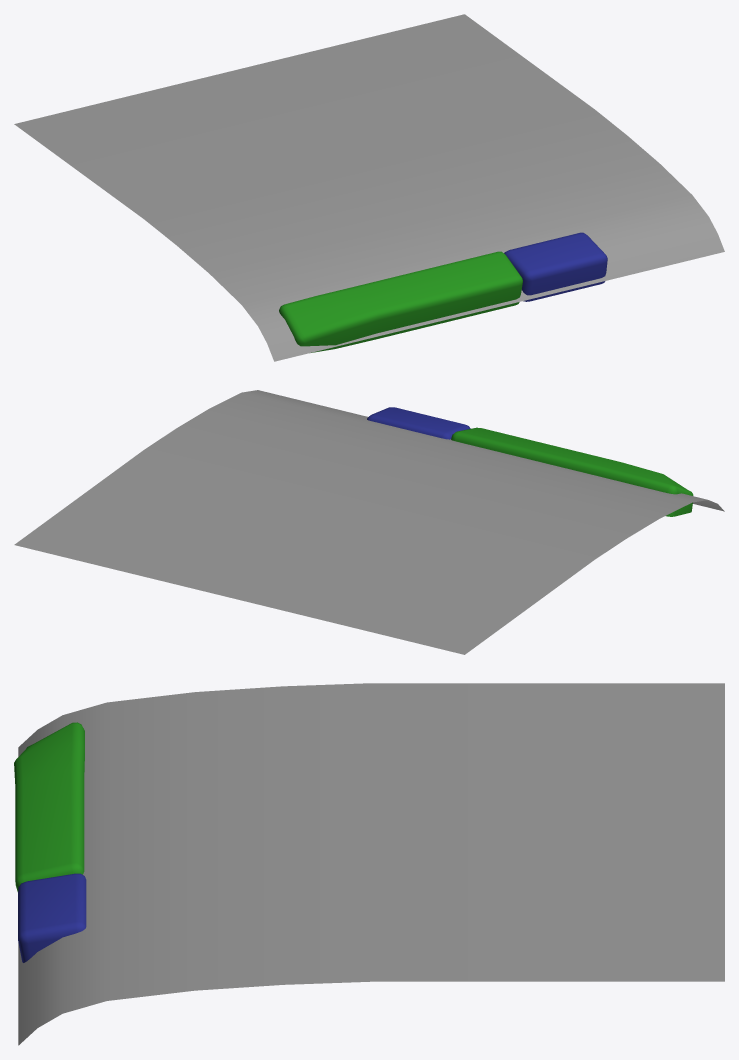
The model's file is bordur 3.FBX.
The picture shows the model from 3 angles, top to bottom: view 1: azimuth 30°, elevation 25°; view 2: azimuth 150°, elevation 25°; view 3: azimuth 270°, elevation 25°; orthographic projection. The views are drawn at different scales.
Visible parts, largest first — view 1: Plane208; view 2: Plane208; view 3: Plane208.
Boxes of the visible parts, <box> form: Plane208: <box>14,14,724,361</box>; Plane208: <box>14,390,724,654</box>; Plane208: <box>14,683,724,1045</box>.
Size of the model in its own units: 4 by 0.439 by 4.03.
